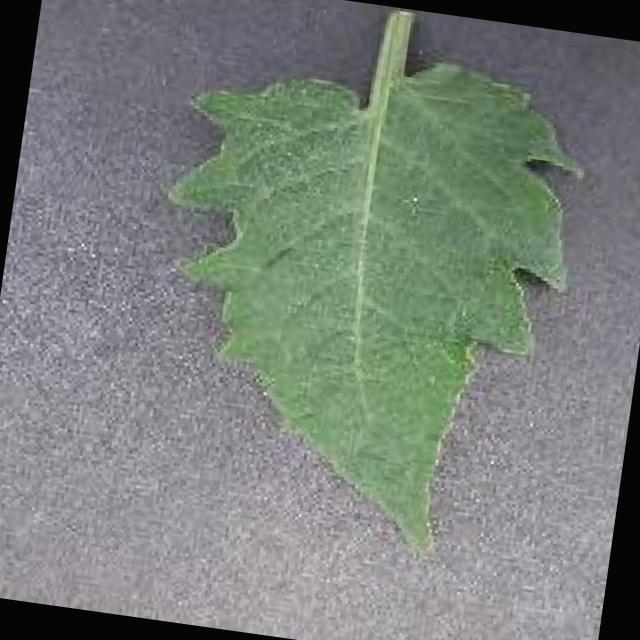healthy: (165, 14, 590, 548)
